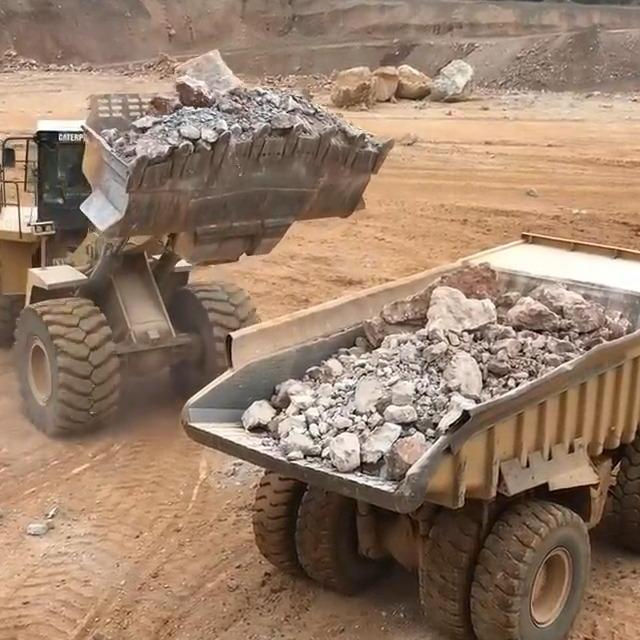dump truck: (176, 224, 640, 640)
wheel loader: (0, 69, 398, 442)
